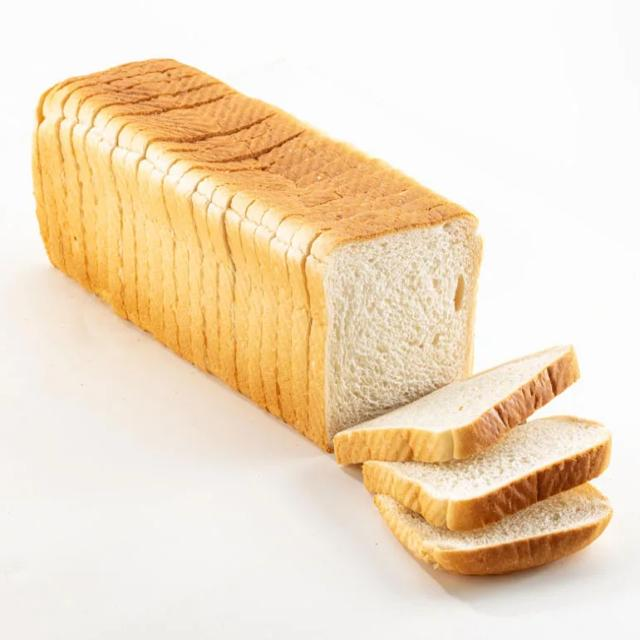Bread: (29, 52, 489, 452), (302, 202, 616, 581)
